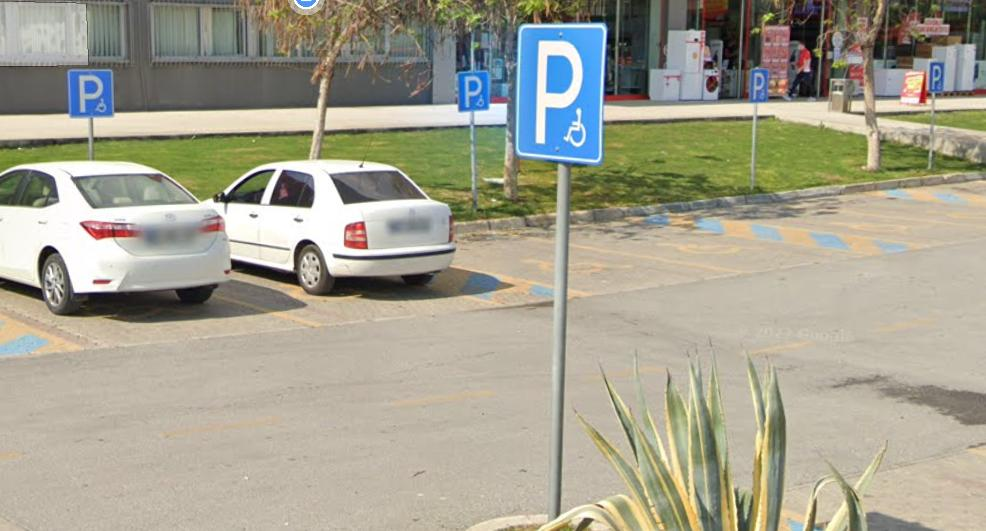disabledpark: (519, 25, 596, 163), (66, 69, 115, 116), (456, 72, 490, 111), (750, 69, 769, 101), (929, 63, 945, 92)
